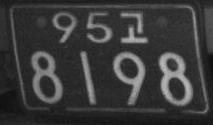1: (71, 50, 101, 104)
5: (85, 11, 113, 43)
8: (157, 51, 194, 107), (29, 49, 64, 104)
9: (112, 49, 145, 106), (51, 10, 78, 44)
고: (119, 10, 147, 43)
